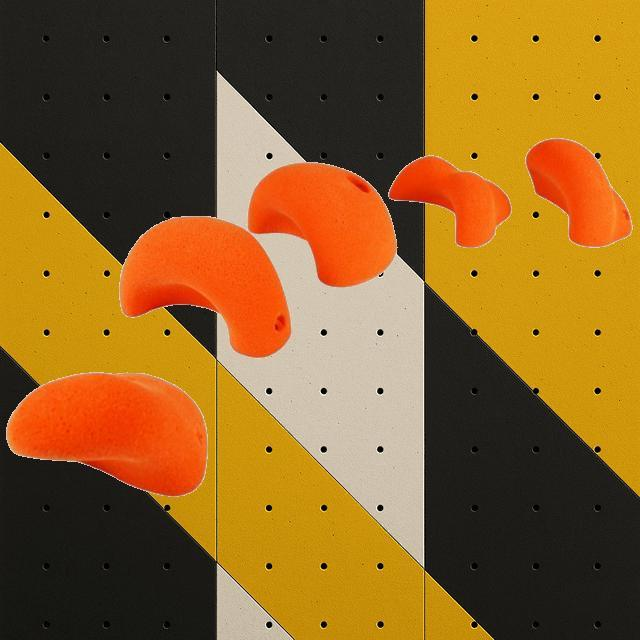Jug: (4, 371, 208, 497), (118, 214, 292, 358), (247, 160, 397, 288), (524, 136, 632, 248), (388, 154, 512, 248)
